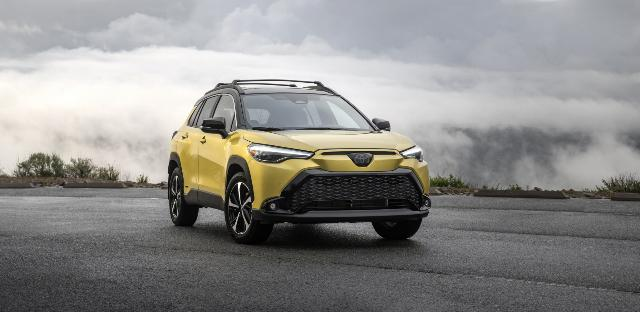toyota: (167, 79, 431, 243)
